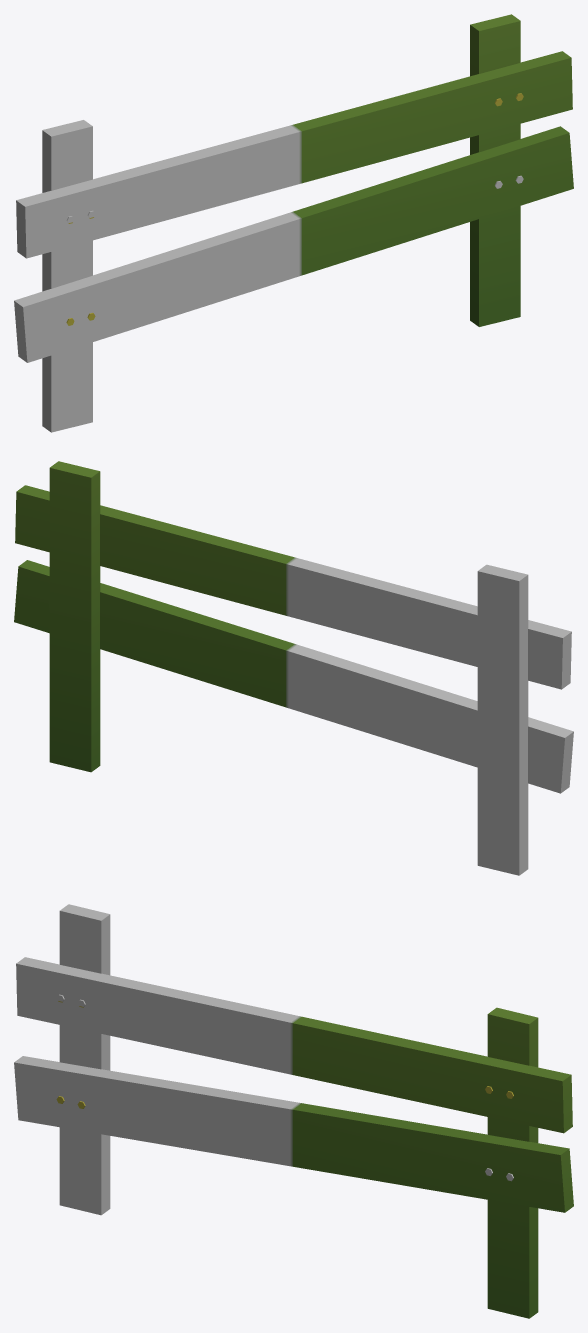
Rendered from Fence_06.fbx.
The picture shows the model from 3 angles, top to bottom: view 1: azimuth 30°, elevation 25°; view 2: azimuth 150°, elevation 25°; view 3: azimuth 330°, elevation 25°; orthographic projection.
Parts seen in each view (by area): view 1: Fence_06; view 2: Fence_06; view 3: Fence_06.
Part boxes in pixels (<box>): Fence_06: <box>14,14,573,432</box>; Fence_06: <box>14,461,573,875</box>; Fence_06: <box>14,904,573,1318</box>.
Size of the model in its own units: 3.82 by 1.95 by 0.2363.
